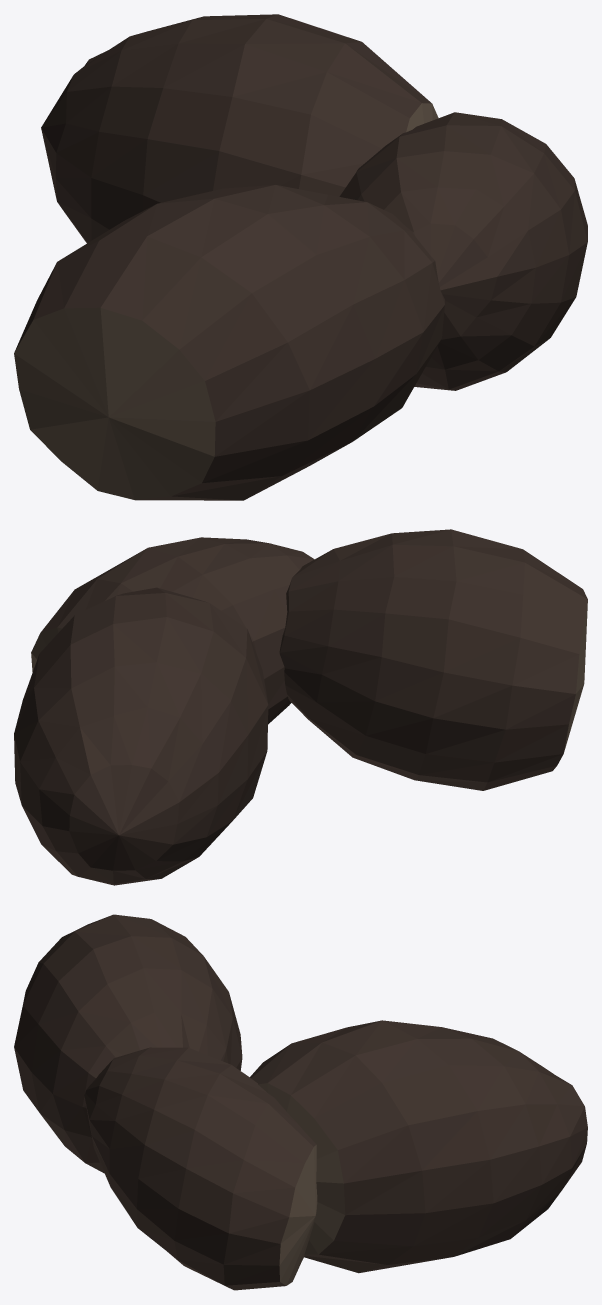
The model's file is blackgarlic.glb.
3 renders of one model, top to bottom at view 1: azimuth 30°, elevation 25°; view 2: azimuth 150°, elevation 25°; view 3: azimuth 270°, elevation 25°, orthographic. The views are drawn at different scales.
Size of the model in its own units: 1.76 by 0.8647 by 1.89.
